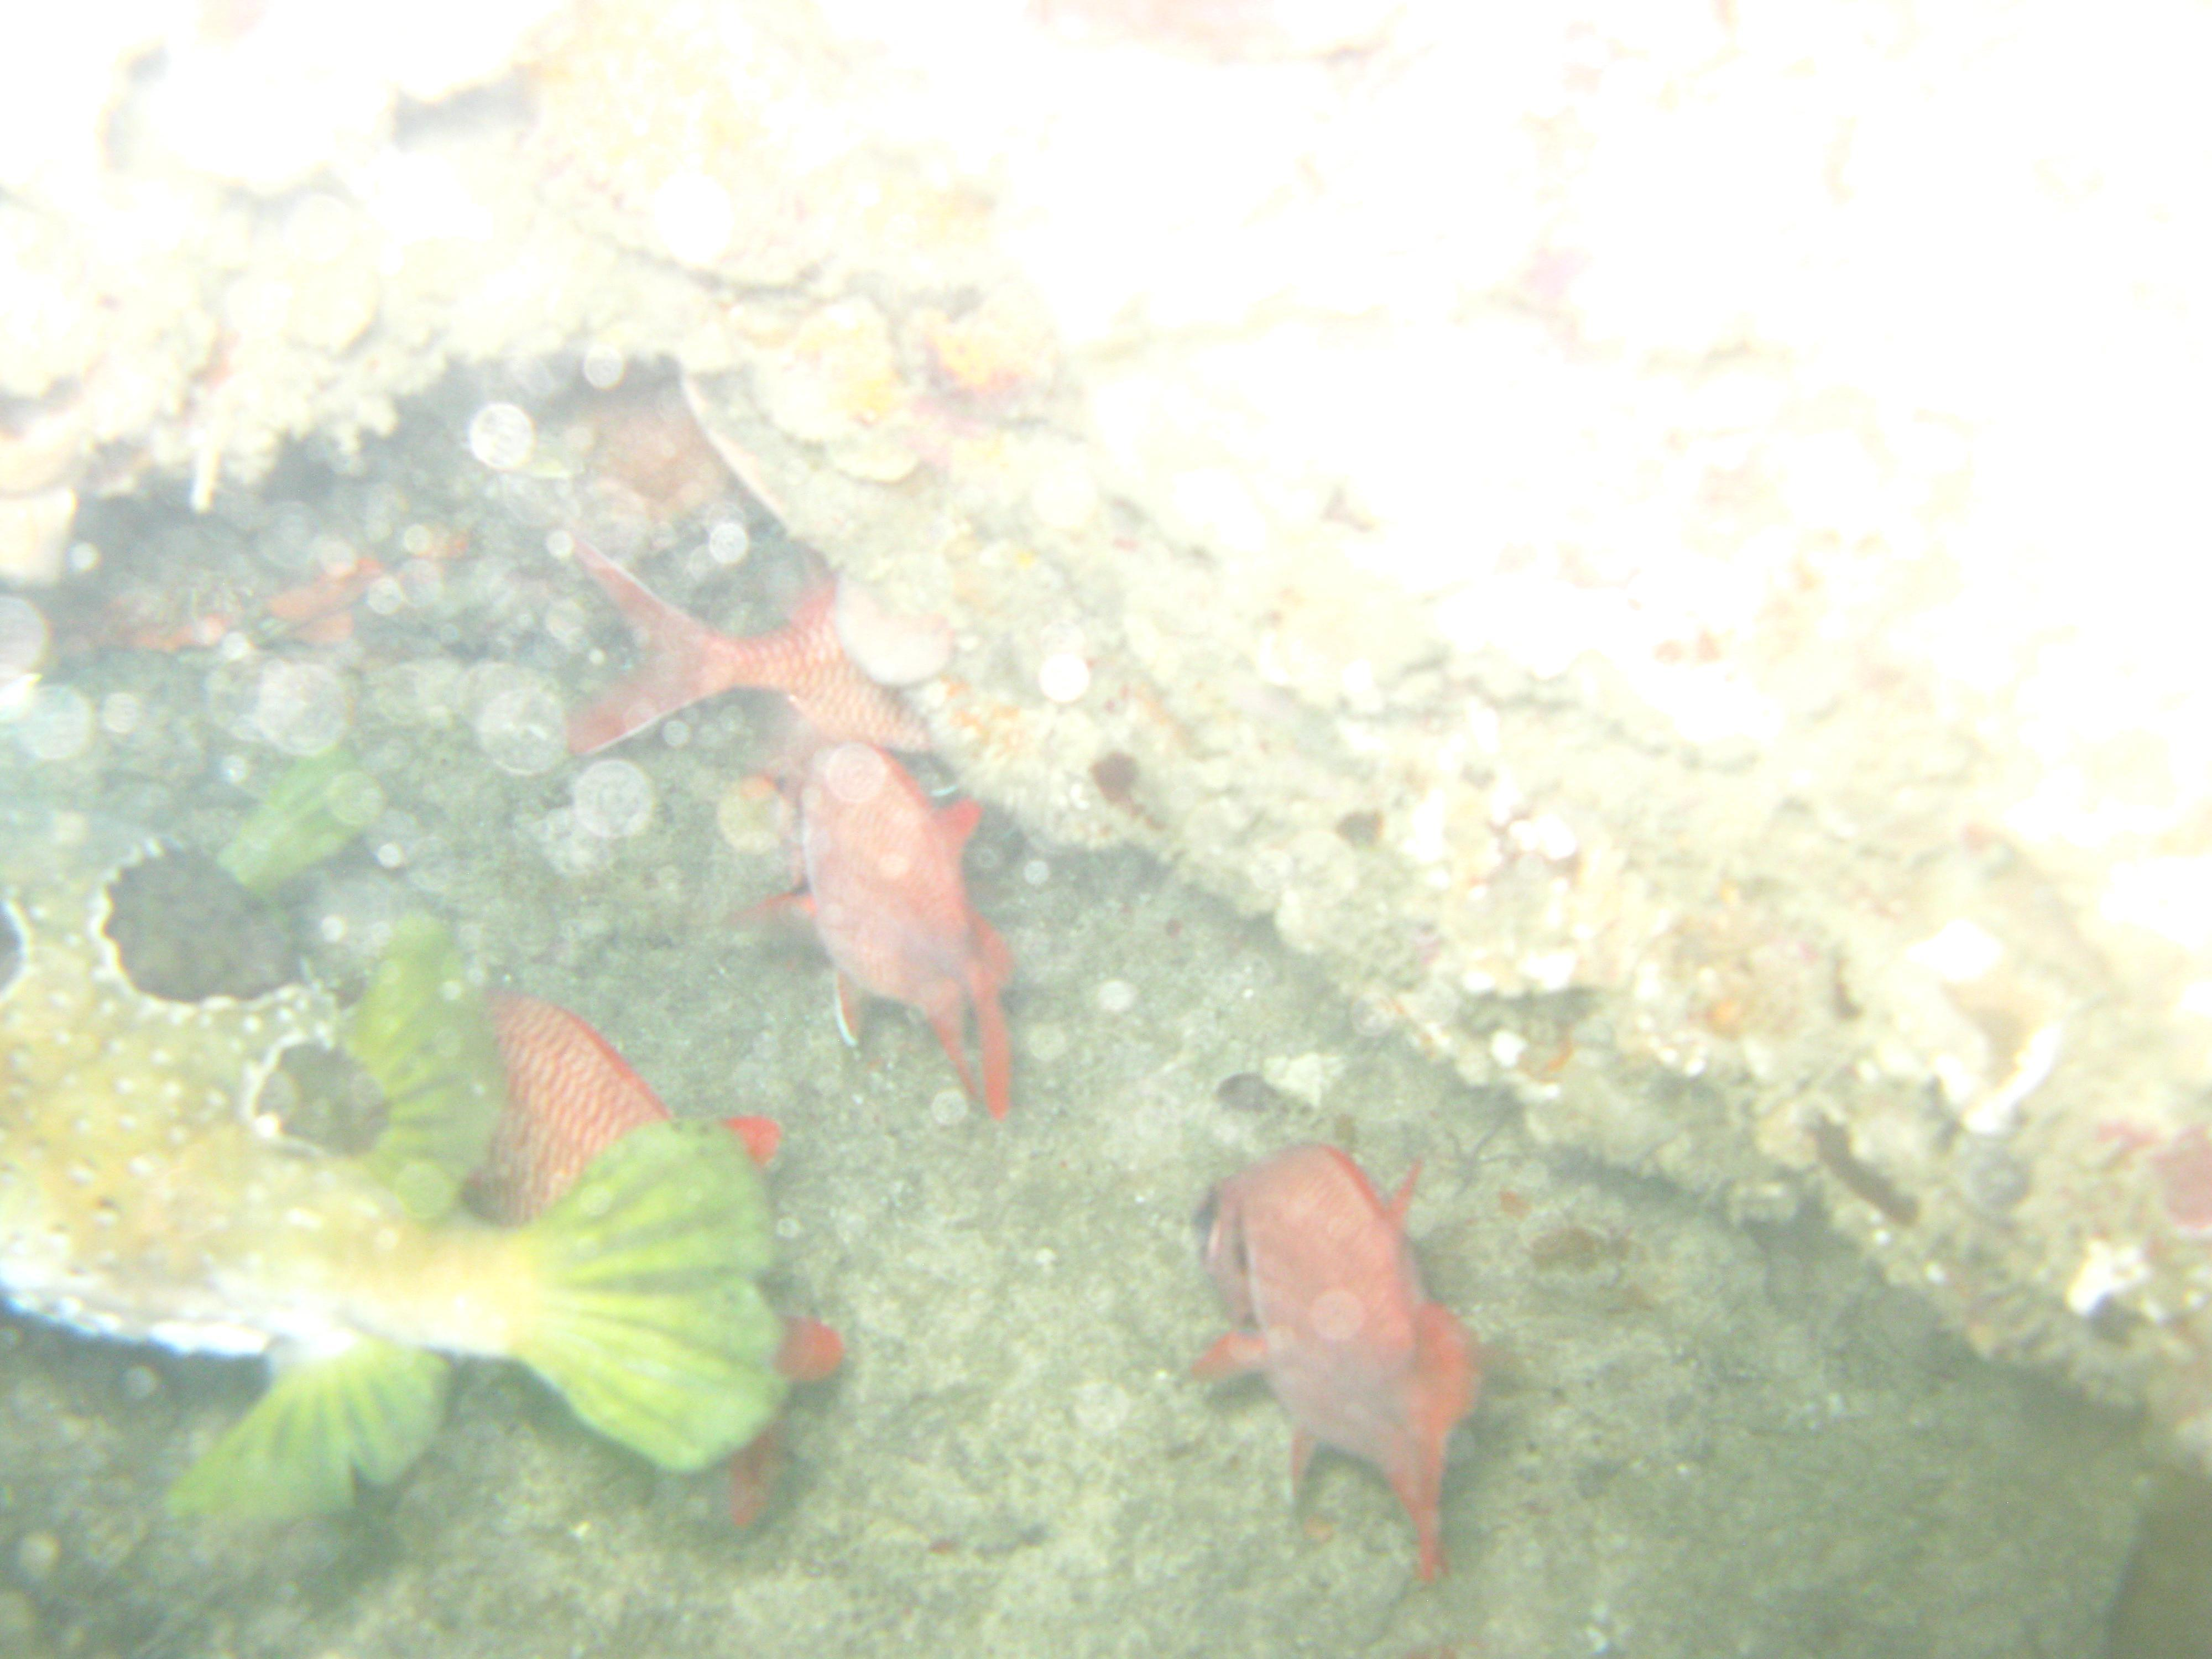Fish: (1158, 1096, 1505, 1593), (742, 753, 1073, 1127)
